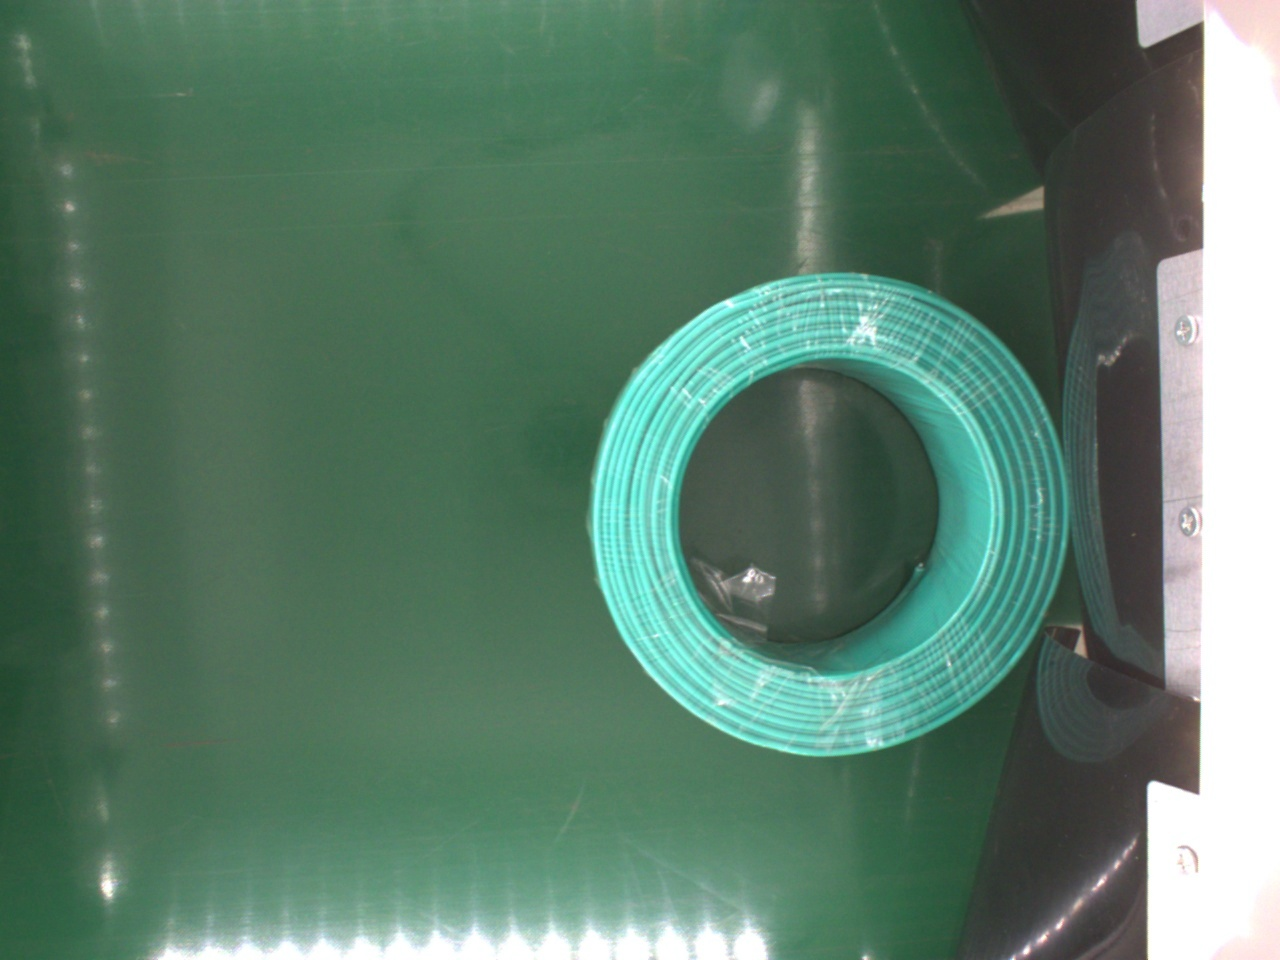green: (586, 270, 1073, 759)
